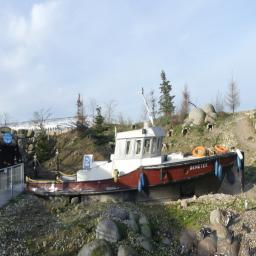tugboat: (22, 87, 248, 212)
